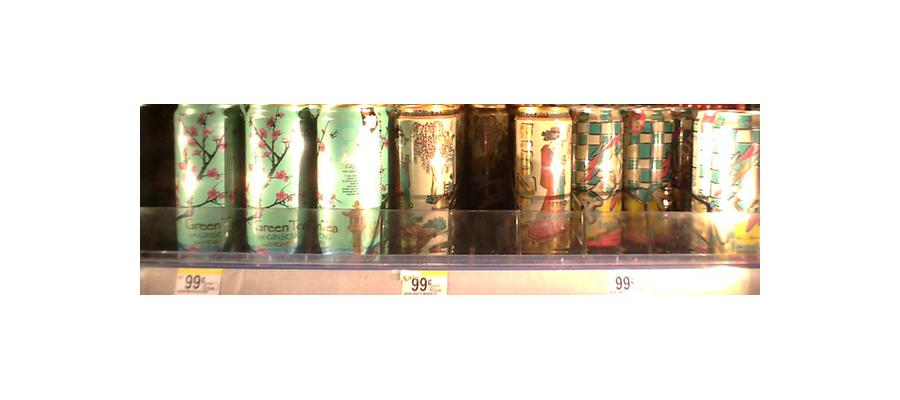bottle: (690, 106, 761, 262), (313, 106, 385, 258), (243, 101, 309, 256), (175, 102, 237, 253), (393, 106, 455, 255), (517, 108, 571, 253), (622, 107, 678, 246), (576, 107, 619, 249)
